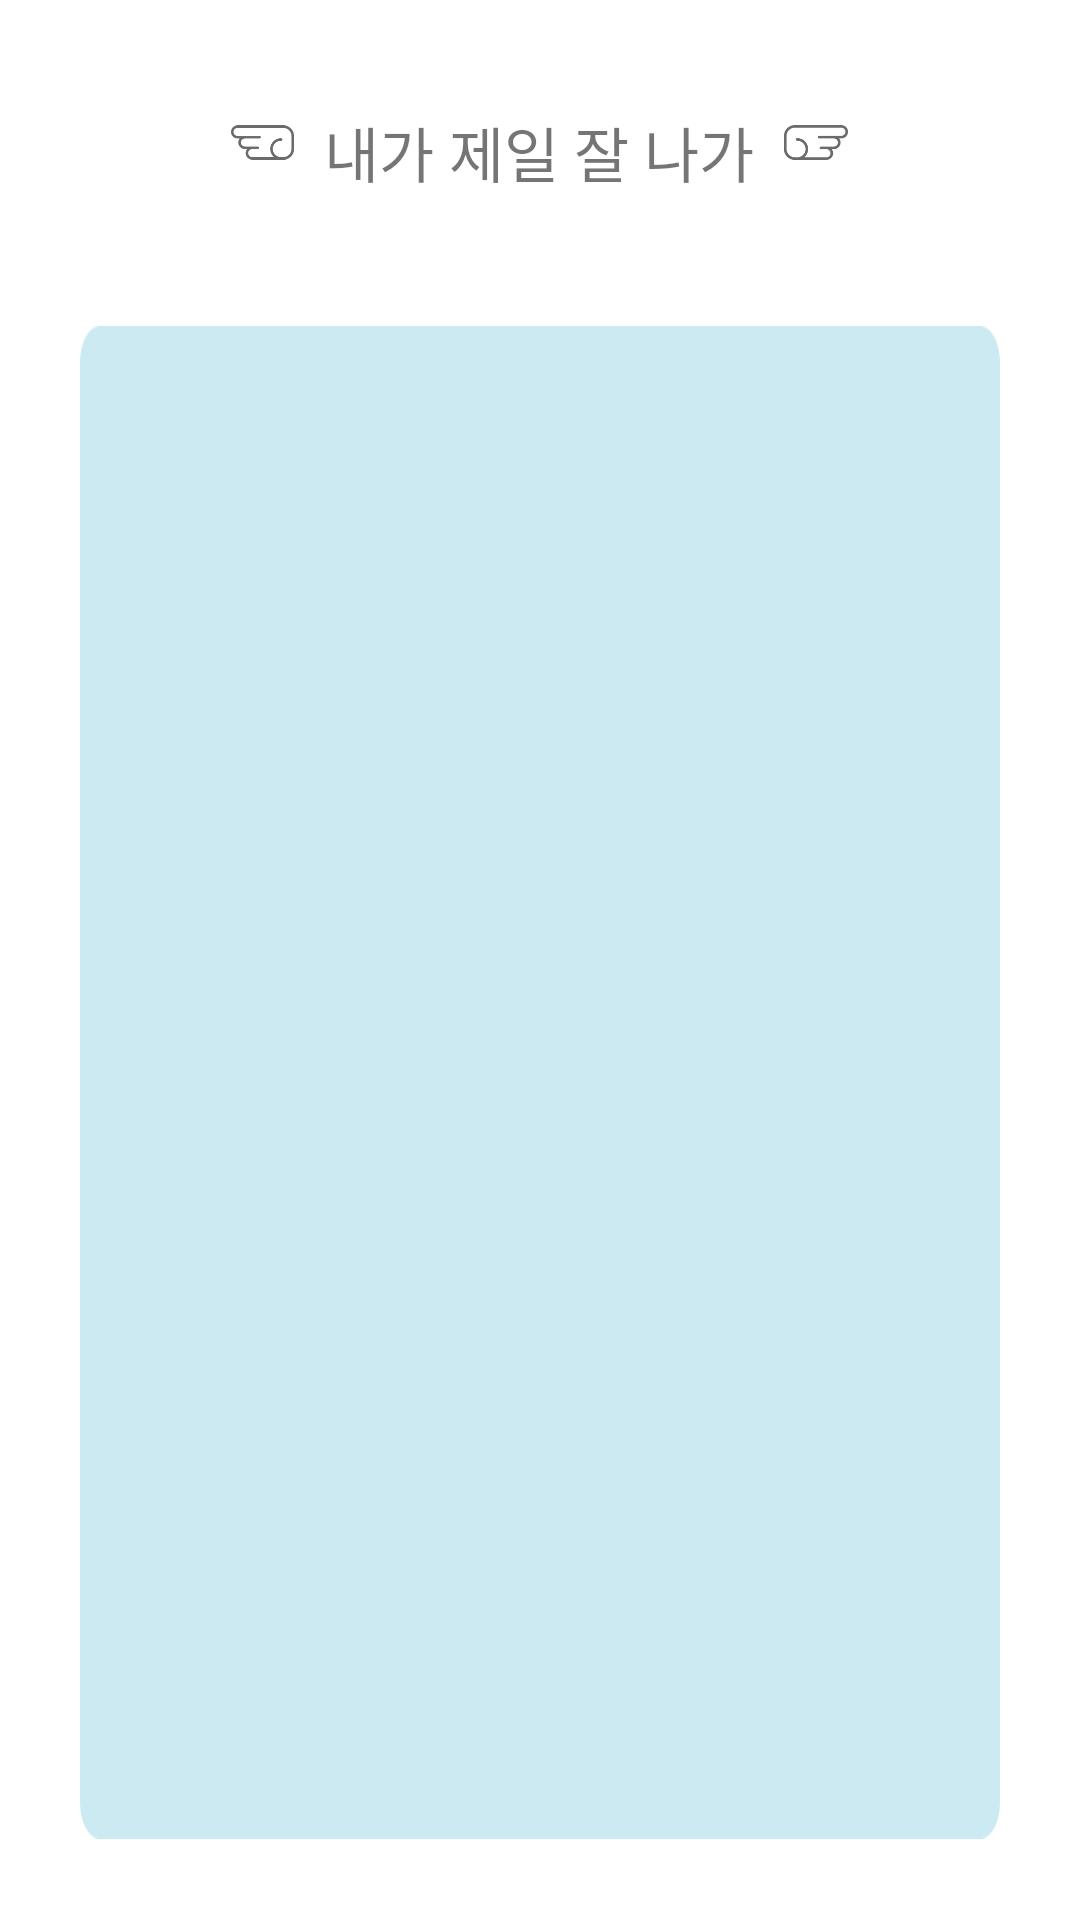

Named icons in this screenshot (1080 × 1920) and their centers, point (x, y):
wing left: point (262, 142)
wing right: point (816, 142)
